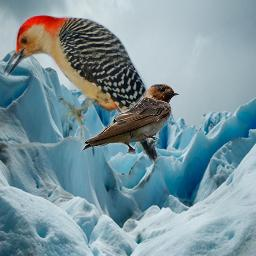Swallow: (79, 82, 179, 155)
Woodpecker: (2, 14, 166, 169)
